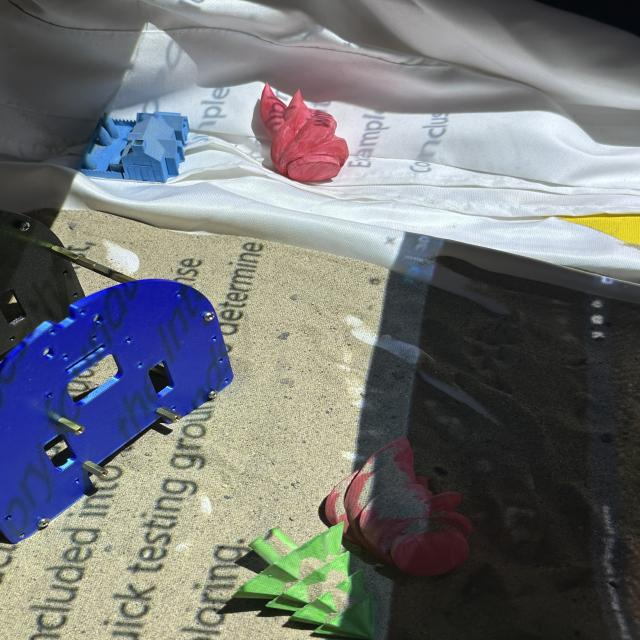fire: (323, 438, 470, 578), (260, 81, 350, 182)
house: (76, 110, 192, 183)
tree: (228, 521, 376, 640)
